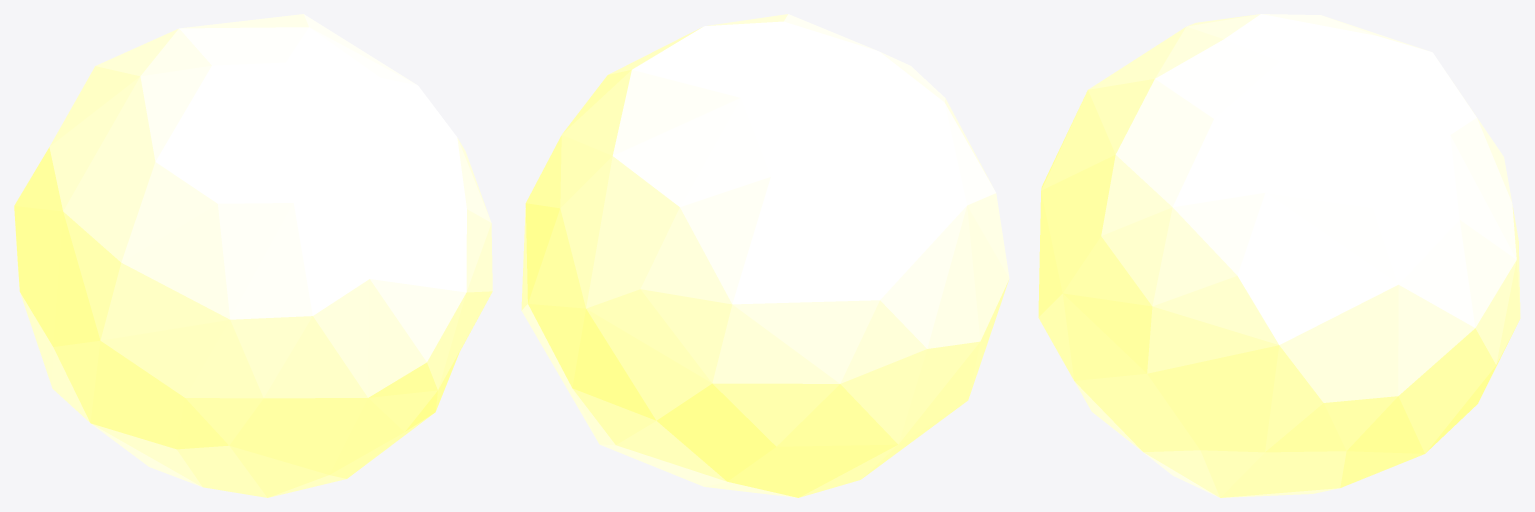
Rendered from Sun.gltf.
3 views of the same model, side by side, from view 1: azimuth 30°, elevation 25°; view 2: azimuth 150°, elevation 25°; view 3: azimuth 270°, elevation 25° (orthographic). The views are drawn at different scales.
Visible parts, largest first — view 1: Icosphere.001; view 2: Icosphere.001; view 3: Icosphere.001.
Boxes of the visible parts, x1,y1,x2,y2 form: Icosphere.001: (14,14,492,497); Icosphere.001: (521,14,1009,497); Icosphere.001: (1038,14,1520,497).
Bounding box in the file's own units: 2.43 × 2.39 × 2.36.
